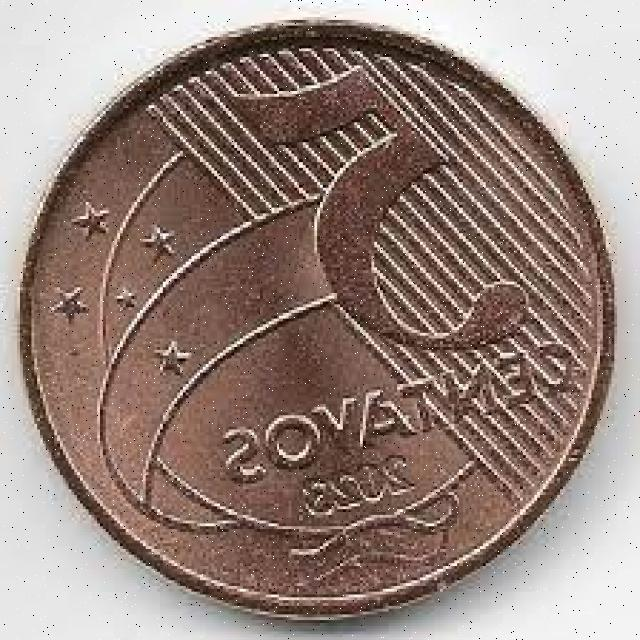5 cent: (16, 14, 617, 622)
